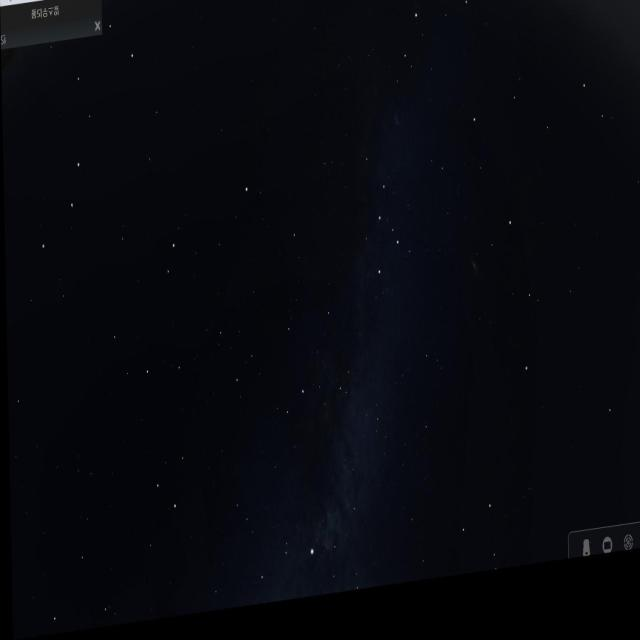cassiopeia: (354, 149, 402, 309)
ursa_major: (34, 17, 142, 251)
